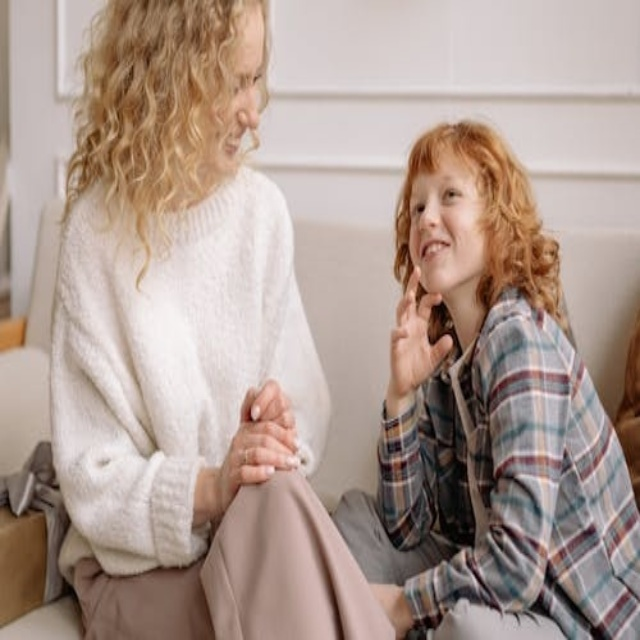Sin_gafas: (407, 161, 470, 217), (218, 60, 274, 113)
Sin_guantes: (220, 378, 304, 512), (379, 263, 452, 392)
Sin_mascara: (410, 229, 462, 284), (206, 123, 253, 179)
